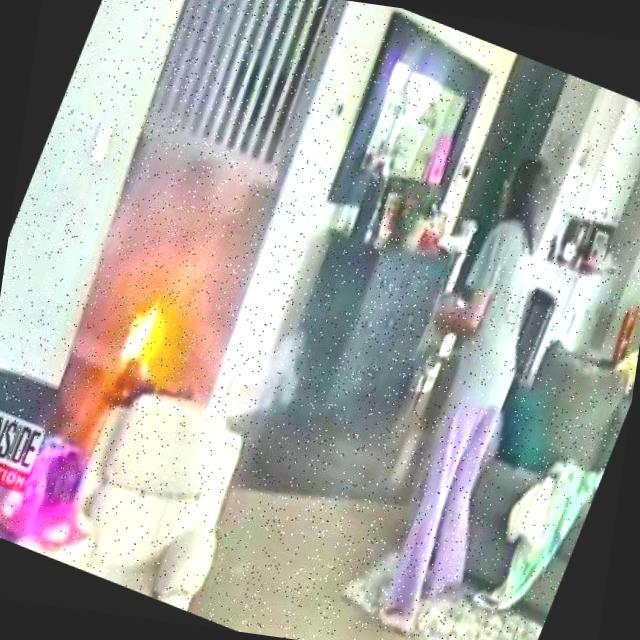fire: (60, 264, 218, 433)
